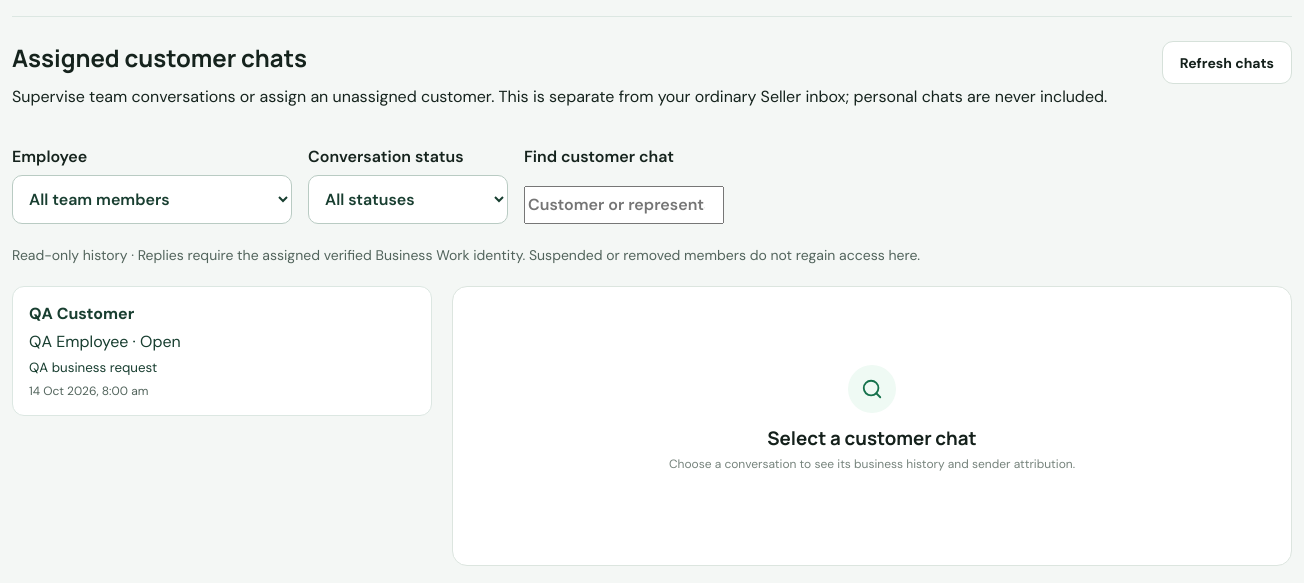
Test: supervised customer chats › shows business history, member empty state and no reply or mutation controls
Click the button "QA Customer" at (82, 313), box x1=12 y1=286 x2=432 y2=416
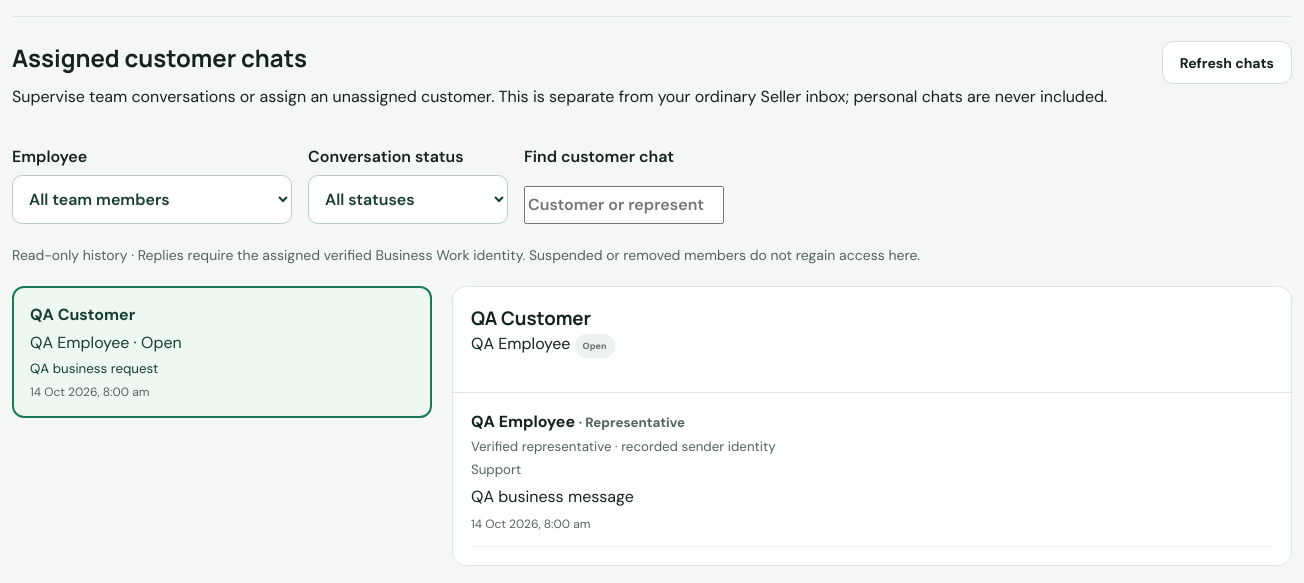
Check: the text "QA business message" is shown, box x1=471 y1=486 x2=634 y2=507
Check: the text "Verified representative · recorded sender identity" is shown, box x1=471 y1=438 x2=776 y2=455
Select "Removed employee · Removed" in the dropdown labelled "Employee" at (152, 199), box x1=12 y1=175 x2=292 y2=224
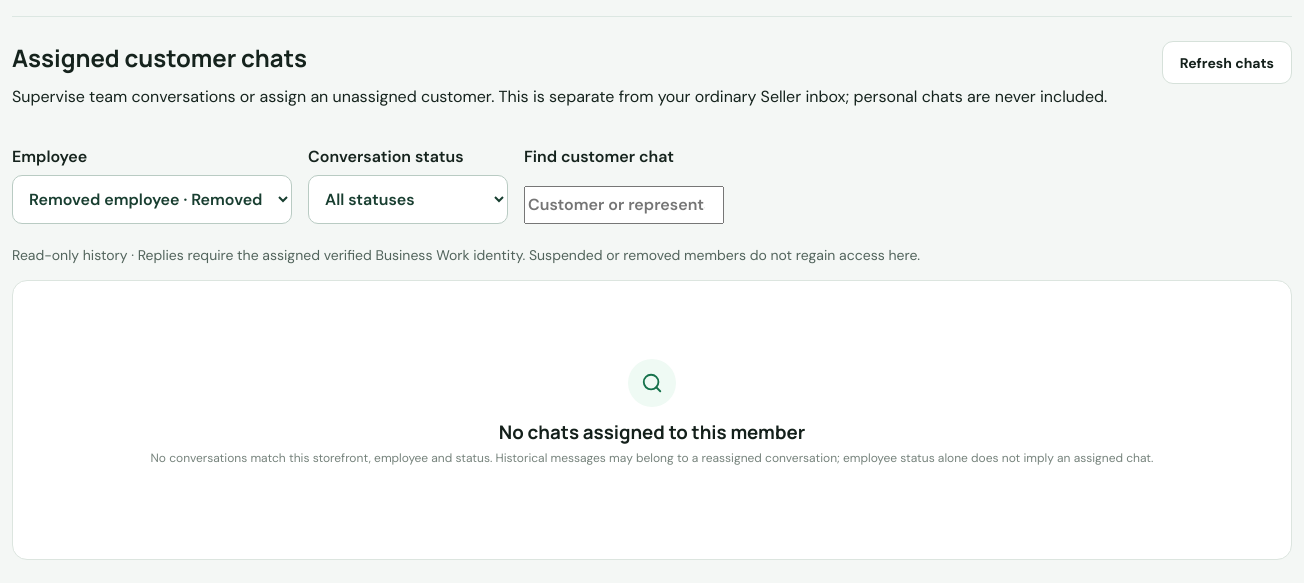
Check: the text "QA business message" is gone
Check: the heading "No chats assigned to this member" is shown, box x1=499 y1=419 x2=805 y2=445
